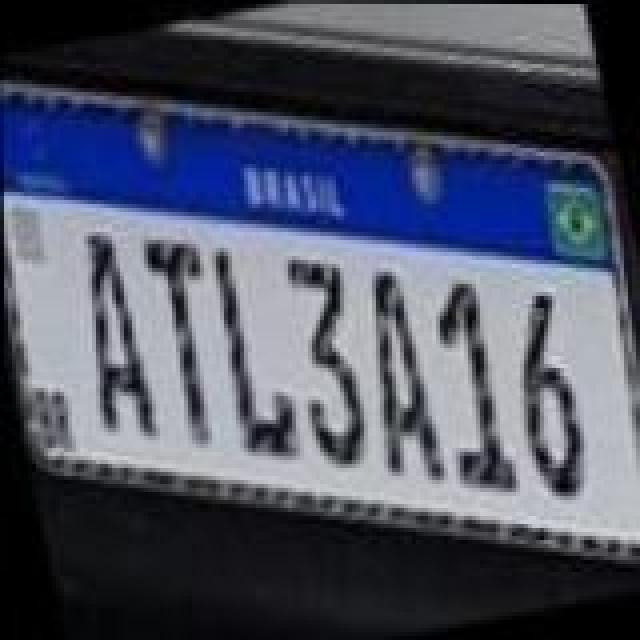1: (418, 276, 522, 500)
3: (272, 244, 376, 472)
6: (496, 286, 596, 506)
A: (344, 262, 448, 490), (62, 224, 162, 448)
L: (200, 242, 304, 470)
T: (138, 232, 238, 448)
